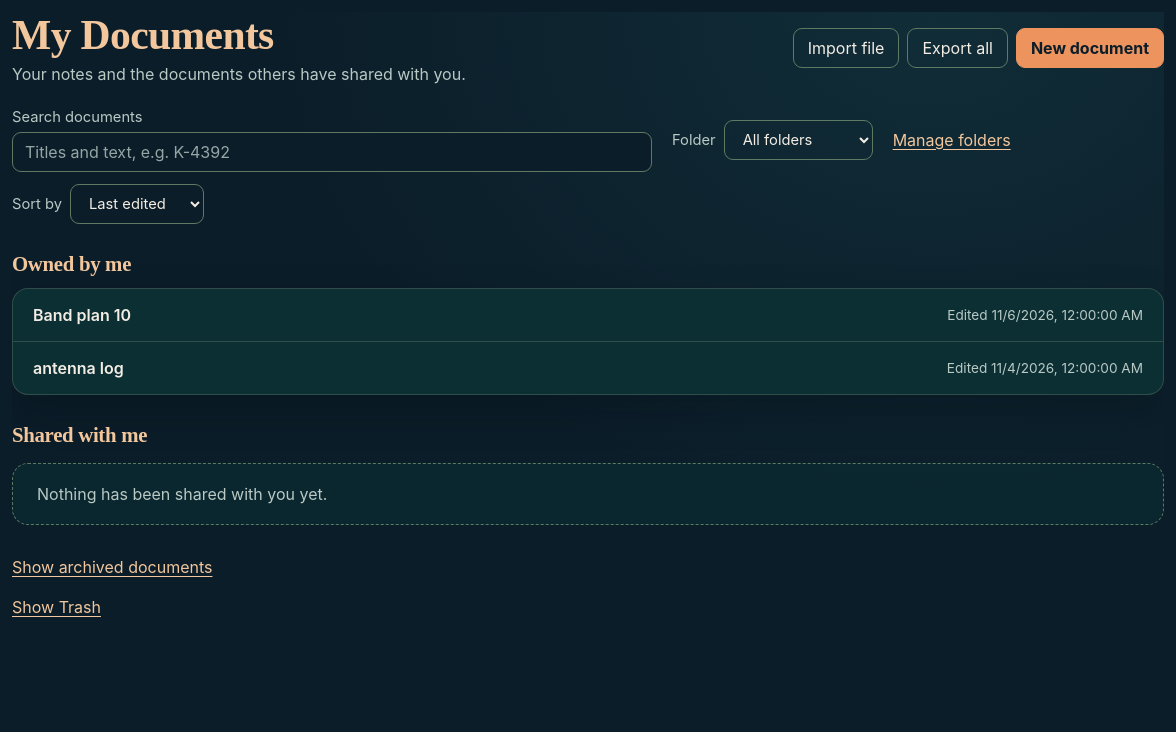
Test: Search (DOC-017) › searches after a pause, shows snippets and badges, and announces the count
Type "yagi" into the search field labelled "Search documents" at (332, 152), box [12,132,652,172]
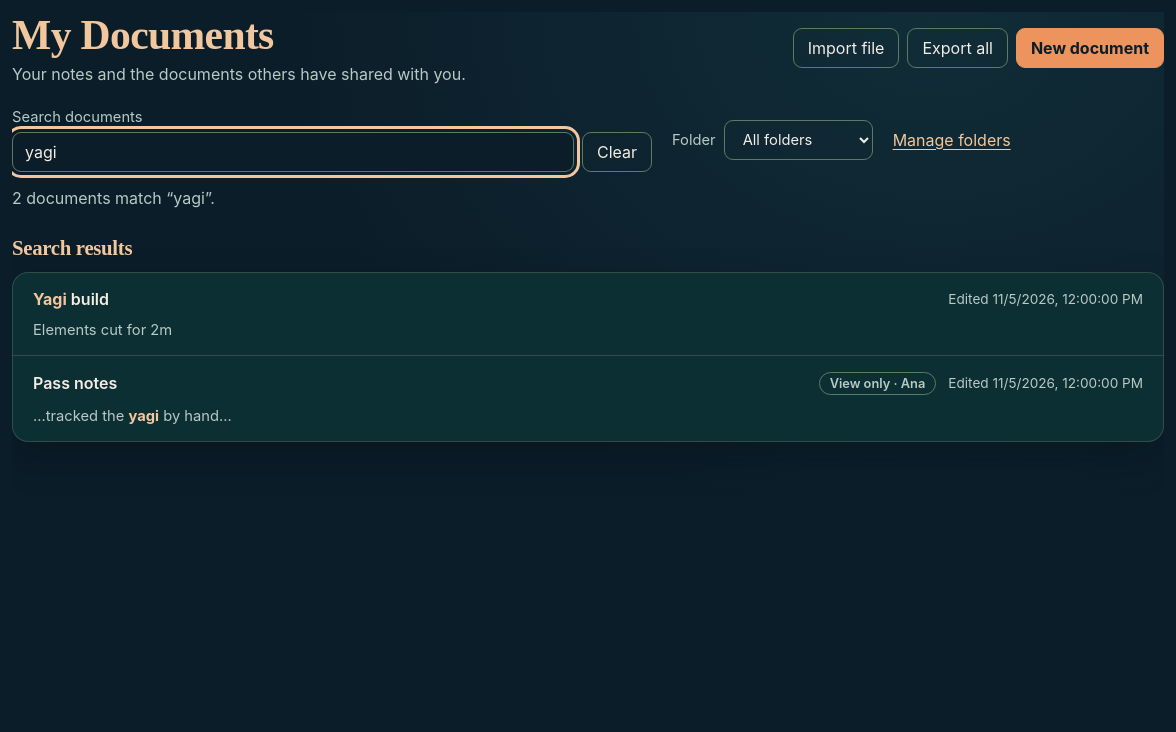
Expected: the message reads "2 documents match “yagi”.", [12,188,215,208]
Expected: the link "Yagi build" is shown, [33,289,109,309]
Expected: the text "View only · Ana" is shown, [819,372,936,395]
Press Escape
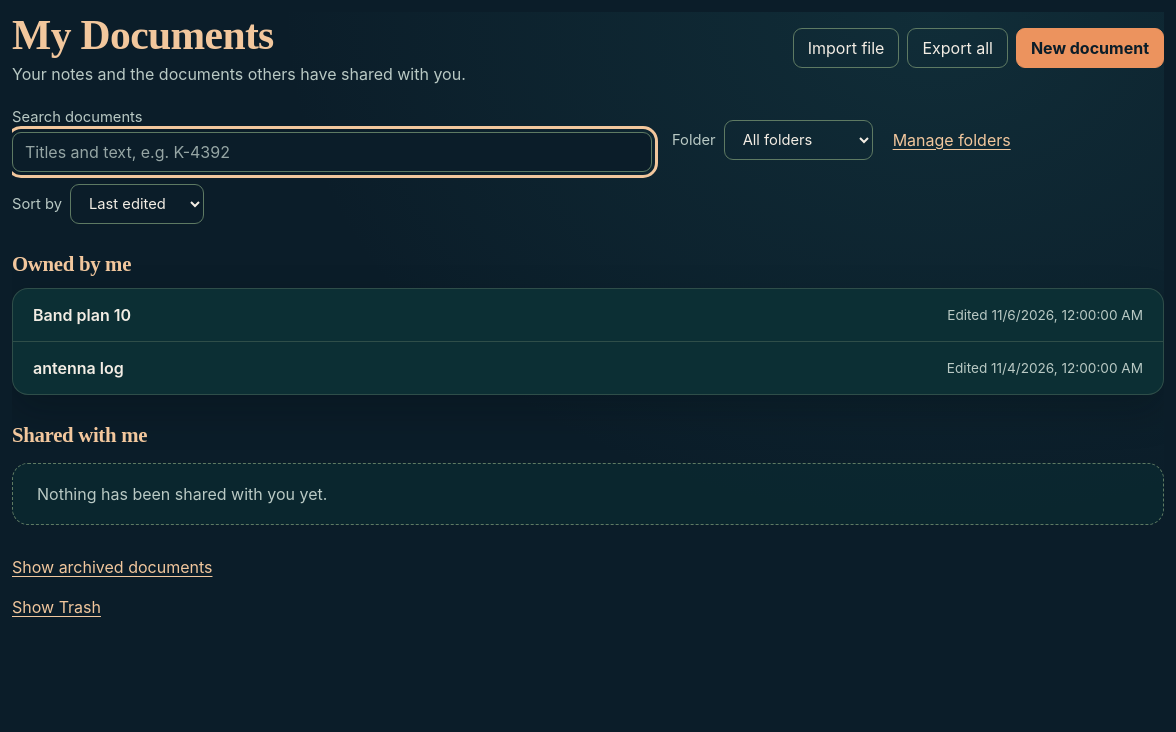
Expected: the search field labelled "Search documents" is empty, [12,132,652,172]
Expected: the element "Owned by me" is shown, [12,252,1164,395]
Expected: the heading "Search results" is gone
